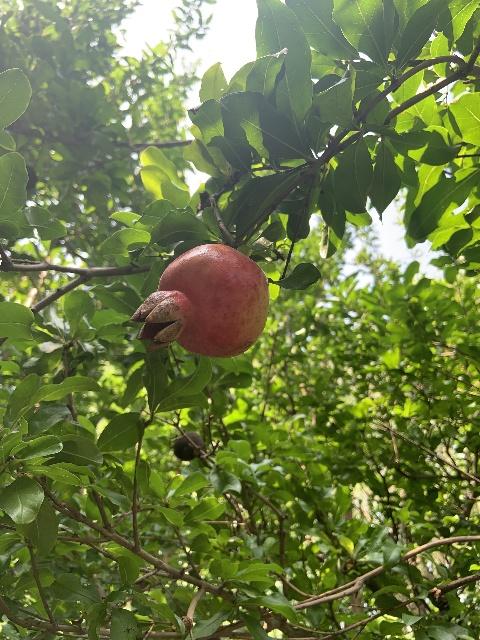ripe: (132, 243, 269, 357)
